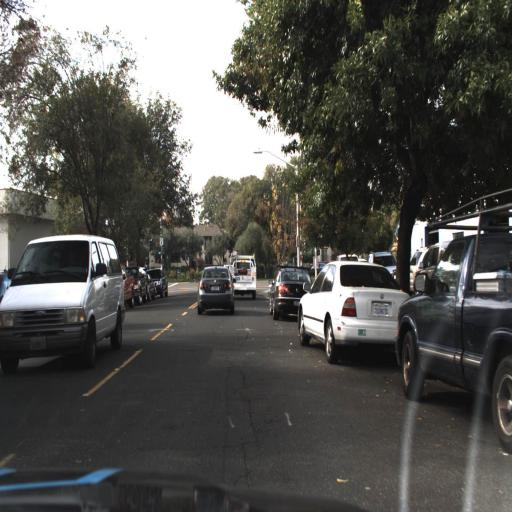car: (396, 234, 512, 459), (0, 234, 125, 374), (297, 258, 412, 360), (267, 267, 312, 320), (268, 268, 312, 320), (196, 262, 235, 310), (228, 248, 261, 300), (118, 261, 135, 312)
truck: (230, 251, 257, 294)
